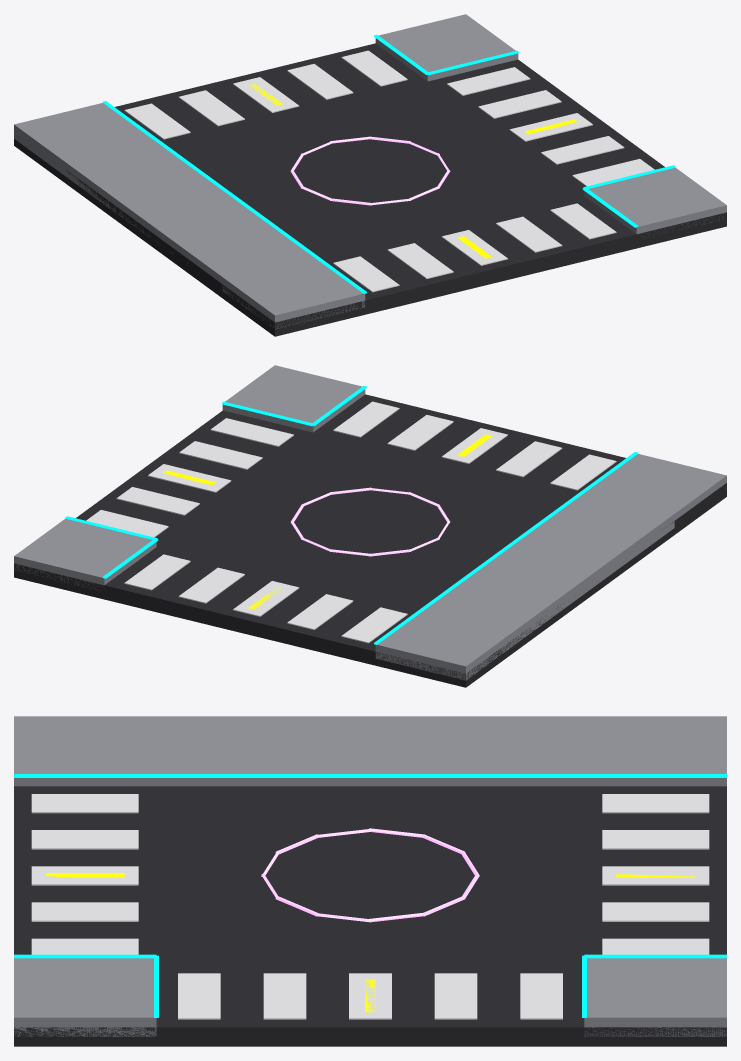
Rendered from Tile_RoadT.fbx.
3 renders of one model, top to bottom at view 1: azimuth 30°, elevation 25°; view 2: azimuth 150°, elevation 25°; view 3: azimuth 270°, elevation 25°, orthographic. The views are drawn at different scales.
Visible parts, largest first — view 1: Tile_RoadT_Base, Tile_RoadT_Walk-10, Tile_RoadT_Walk-1-1, Tile_RoadT_Walk1-1, Tile_RoadT_Walk-11, Tile_RoadT_Walk11, Tile_RoadT_CrosswalkE3, Tile_RoadT_CrosswalkE4, Tile_RoadT_CrosswalkE1, Tile_RoadT_JunctionRing, Tile_RoadT_CrosswalkS3, Tile_RoadT_CrosswalkN3 (+11 smaller); view 2: Tile_RoadT_Base, Tile_RoadT_Walk-10, Tile_RoadT_Walk-11, Tile_RoadT_Walk11, Tile_RoadT_Walk1-1, Tile_RoadT_Walk-1-1, Tile_RoadT_CrosswalkE0, Tile_RoadT_CrosswalkE1, Tile_RoadT_CrosswalkE3, Tile_RoadT_JunctionRing, Tile_RoadT_CrosswalkN3, Tile_RoadT_CrosswalkS3 (+11 smaller); view 3: Tile_RoadT_Base, Tile_RoadT_Walk-10, Tile_RoadT_Walk1-1, Tile_RoadT_Walk11, Tile_RoadT_Walk-1-1, Tile_RoadT_Walk-11, Tile_RoadT_CrosswalkN1, Tile_RoadT_CrosswalkN3, Tile_RoadT_CrosswalkS1, Tile_RoadT_CrosswalkS3, Tile_RoadT_CrosswalkN0, Tile_RoadT_CrosswalkS0 (+15 smaller).
Boxes of the visible parts, x1,y1,x2,y2 form: Tile_RoadT_Base: (14,43,726,336); Tile_RoadT_Walk-10: (66,141,310,283); Tile_RoadT_Walk-1-1: (222,255,365,329); Tile_RoadT_Walk1-1: (584,167,726,237); Tile_RoadT_Walk-11: (14,103,154,176); Tile_RoadT_Walk11: (375,14,518,81); Tile_RoadT_CrosswalkE3: (478,90,561,118); Tile_RoadT_CrosswalkE4: (447,67,530,95); Tile_RoadT_CrosswalkE1: (541,136,624,164); Tile_RoadT_JunctionRing: (290,136,450,205); Tile_RoadT_CrosswalkS3: (496,216,562,252); Tile_RoadT_CrosswalkN3: (287,64,353,99); Tile_RoadT_Base: (14,394,726,687); Tile_RoadT_Walk-10: (430,492,674,641); Tile_RoadT_Walk-11: (375,606,518,680); Tile_RoadT_Walk11: (14,518,156,591); Tile_RoadT_Walk1-1: (222,365,365,432); Tile_RoadT_Walk-1-1: (586,454,726,520); Tile_RoadT_CrosswalkE0: (210,418,293,446); Tile_RoadT_CrosswalkE1: (179,441,262,469); Tile_RoadT_CrosswalkE3: (116,487,199,515); Tile_RoadT_JunctionRing: (290,487,450,556); Tile_RoadT_CrosswalkN3: (178,567,244,603); Tile_RoadT_CrosswalkS3: (387,415,453,450); Tile_RoadT_Base: (14,786,726,1046); Tile_RoadT_Walk-10: (156,716,584,786); Tile_RoadT_Walk1-1: (14,958,156,1036); Tile_RoadT_Walk11: (584,958,726,1036); Tile_RoadT_Walk-1-1: (14,716,156,786); Tile_RoadT_Walk-11: (584,716,726,786); Tile_RoadT_CrosswalkN1: (602,830,709,849); Tile_RoadT_CrosswalkN3: (602,902,709,921); Tile_RoadT_CrosswalkS1: (31,830,138,849); Tile_RoadT_CrosswalkS3: (31,902,138,921); Tile_RoadT_CrosswalkN0: (602,794,709,813); Tile_RoadT_CrosswalkS0: (31,794,138,813).
Size of the model in its own units: 2 by 0.095 by 2.
